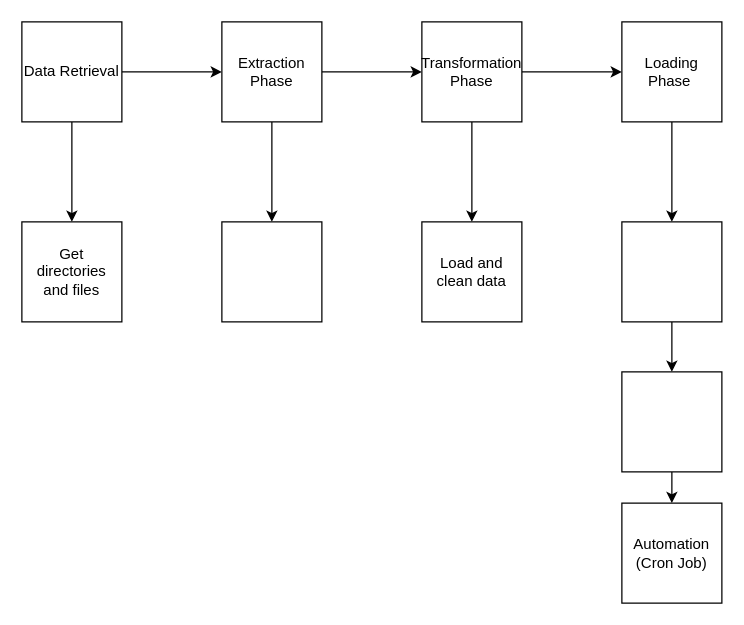
This 744x625 diagram has some shape labels left out. The shapes that lost their labels are listed below. From the top down, each one's centre as x and y in pixels, then its label:
At pixel 271 271: "Download adn extract .gz file".
At pixel 671 271: "Data Duplication Check".
At pixel 671 421: "Load into 'wiki' table".
